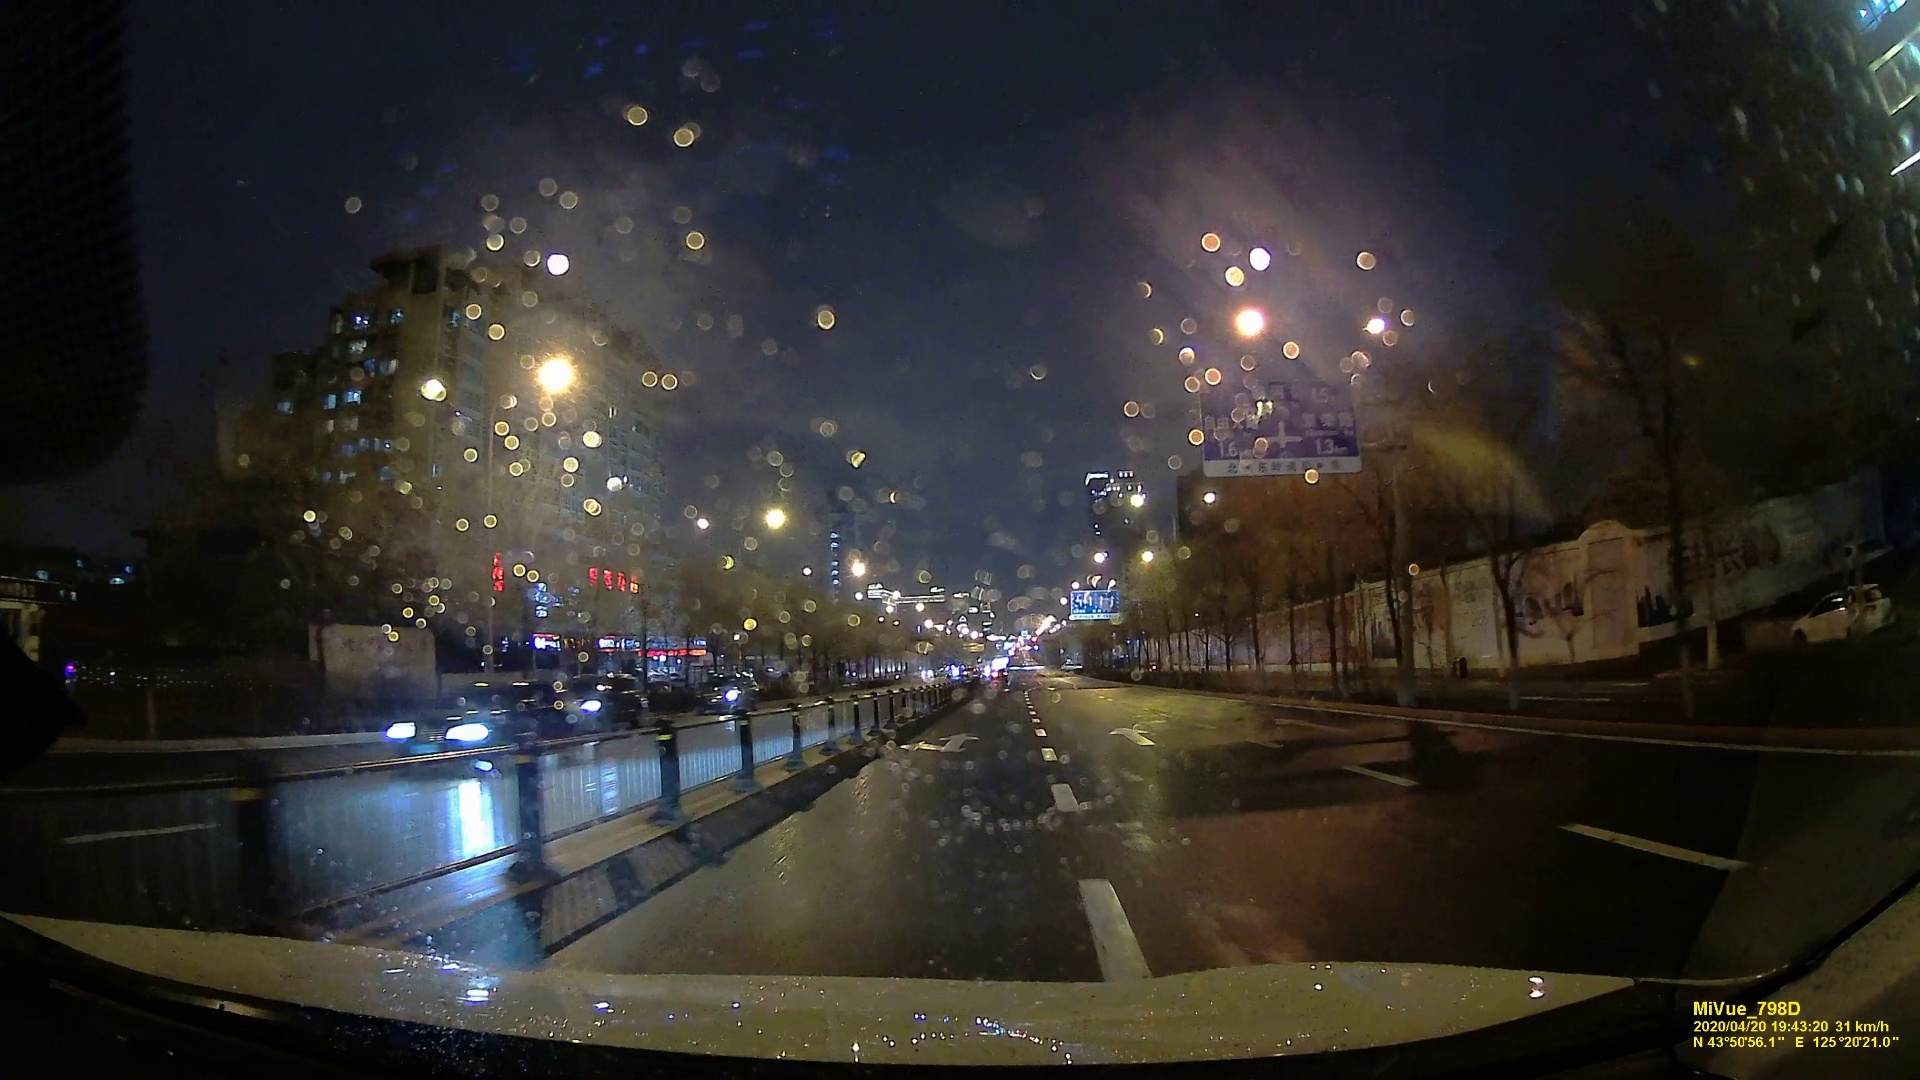traffic_sign: (1201, 380, 1356, 473), (1072, 587, 1118, 618)
vehicle: (382, 676, 556, 767), (556, 674, 645, 729), (694, 671, 756, 711)
